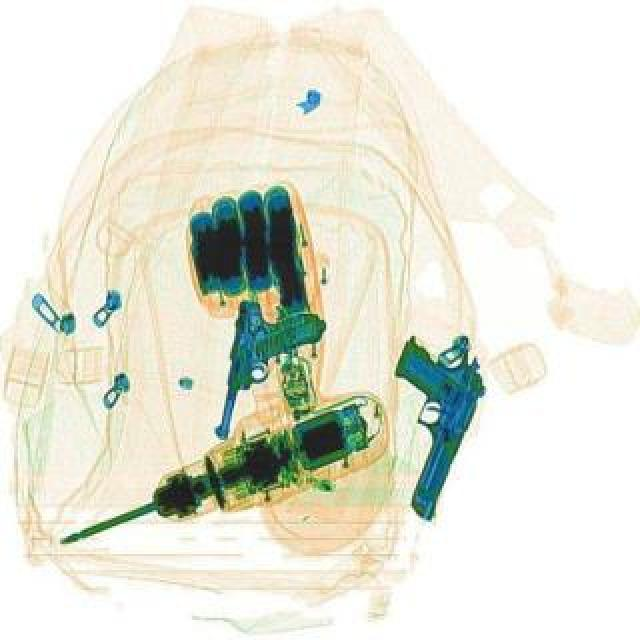gun: (346, 324, 498, 524), (210, 296, 328, 452)
